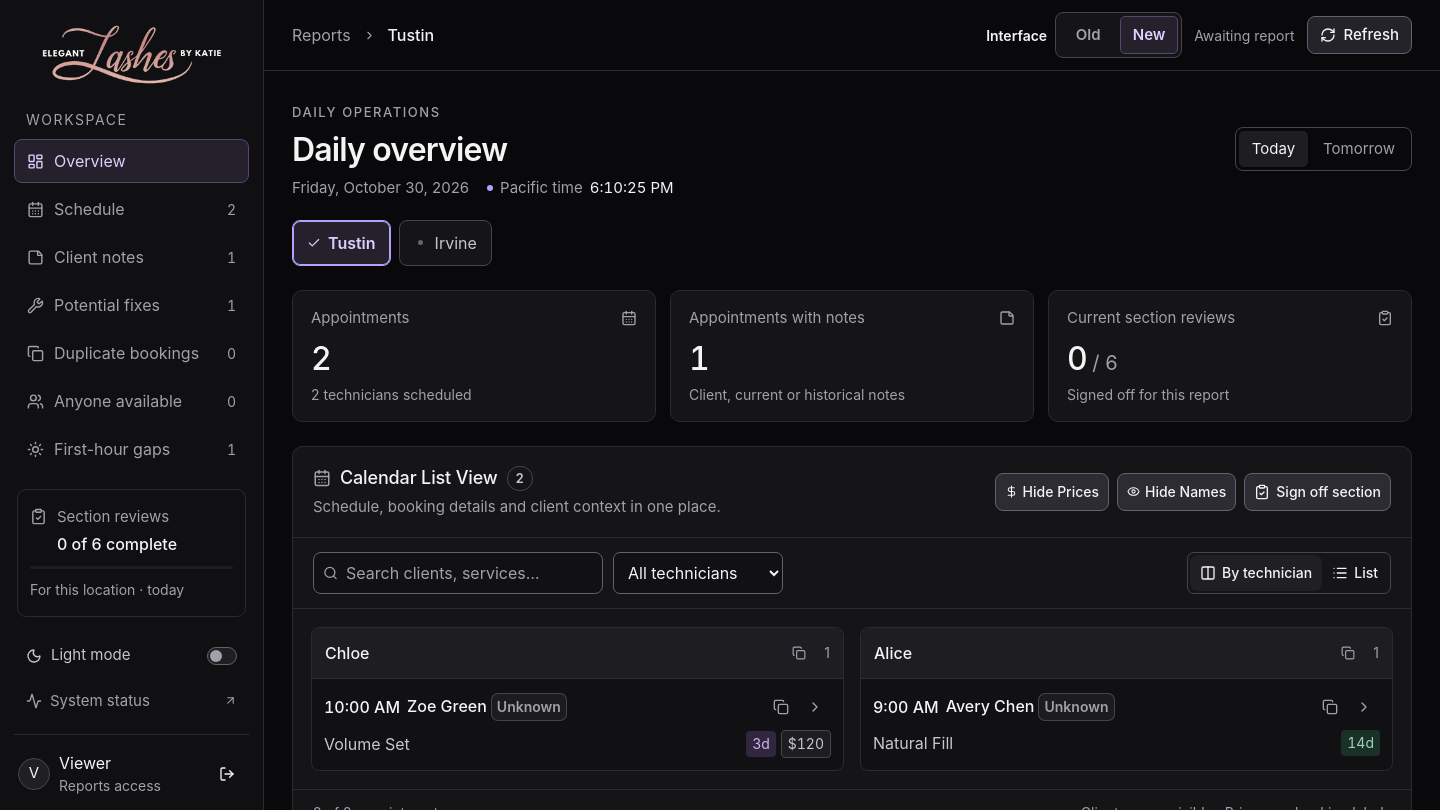
Test: keeps current notes and focus behavior in old details, with history only in New
This screenshot has width=1440, height=810.
Expected: the button with aria-label "Sign off Calendar List View" is shown, [1244,473,1391,511]
Click the button with aria-label "Old interface" at {"x": 1088, "y": 35}, box [1059,16,1117,54]
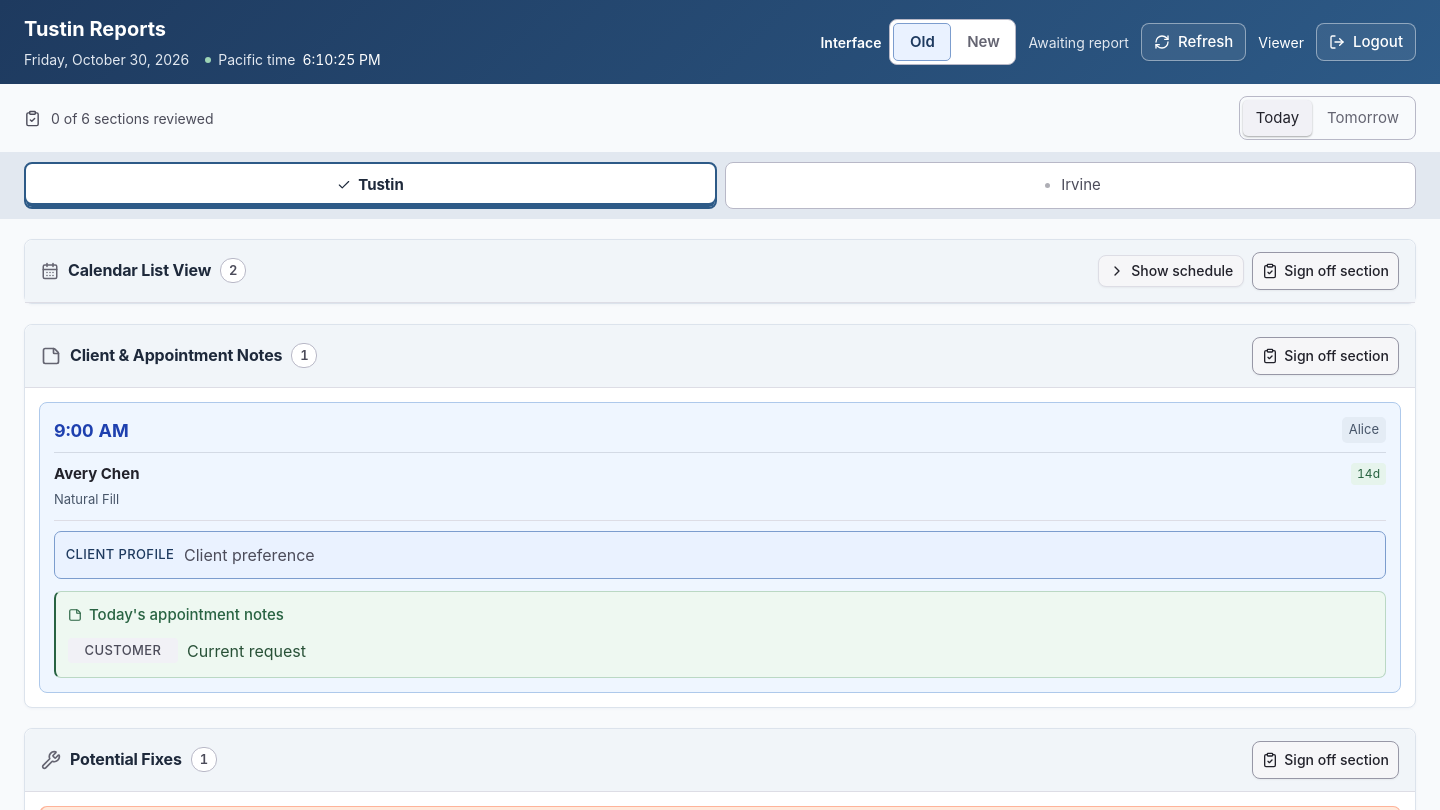
Click the button "Show schedule" at {"x": 1171, "y": 270}, box [1098,254,1244,286]
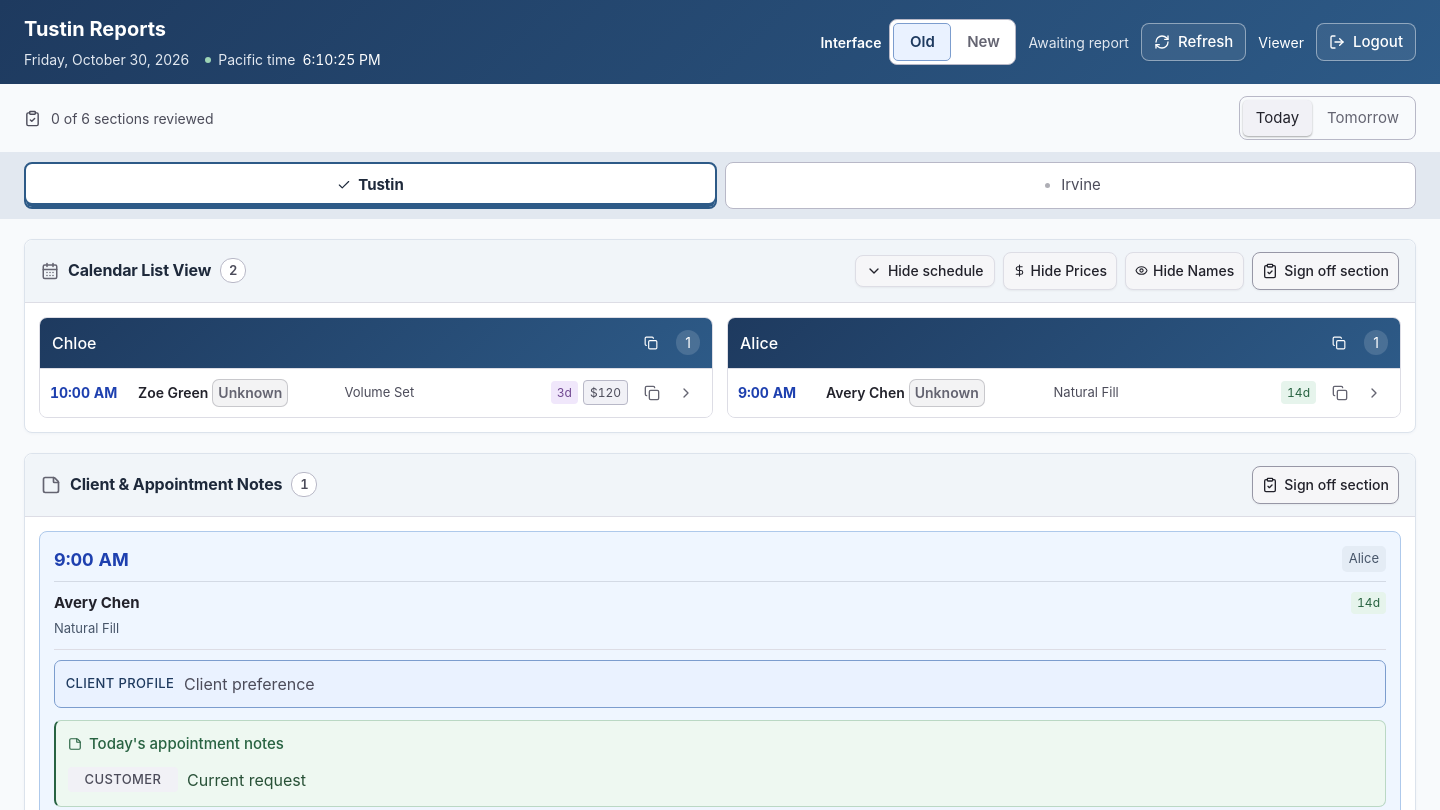
Click the button named "View 9:00 AM appointment details" at {"x": 1374, "y": 392}, box [1358,376,1390,408]
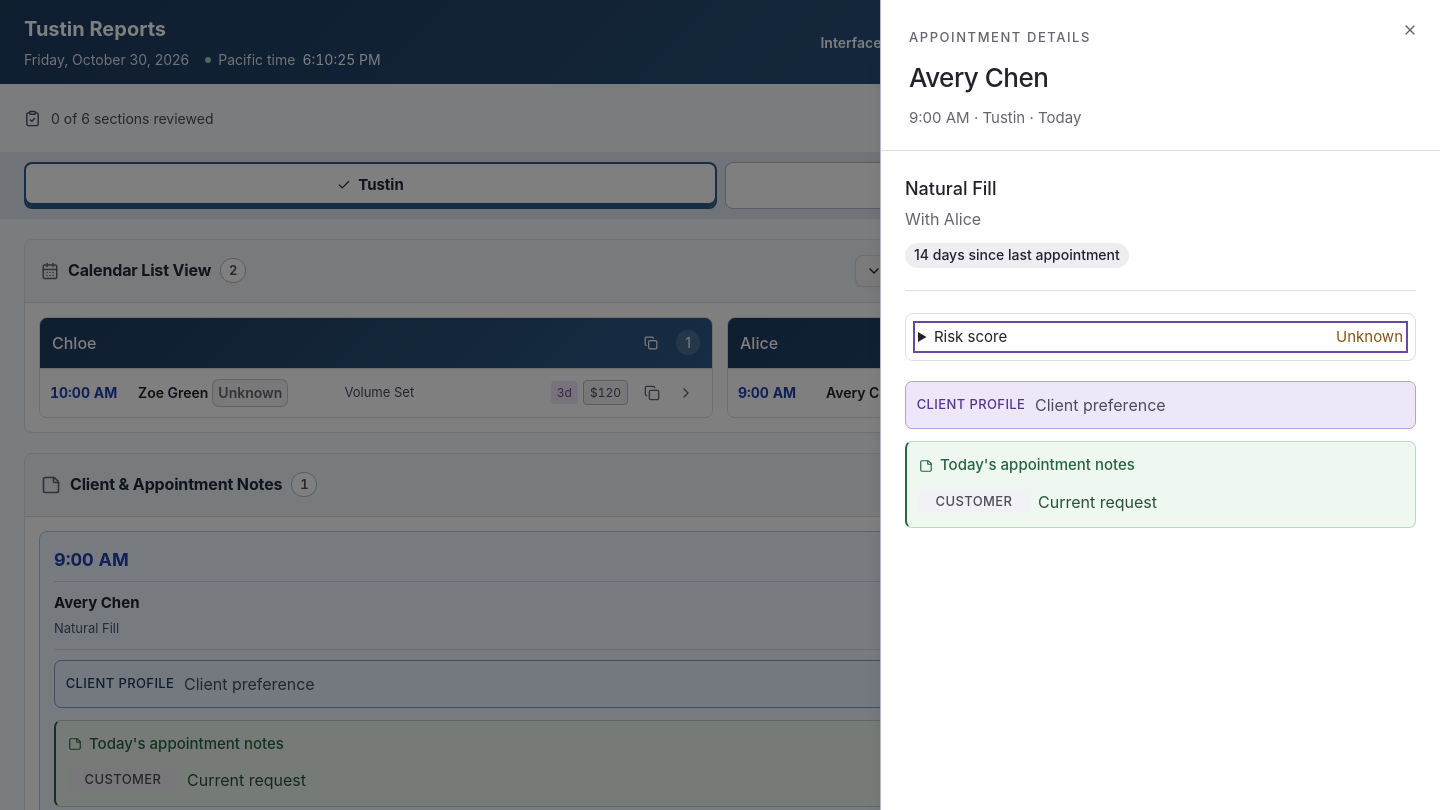
Now the text "Current request" is shown, box [1038,492,1157,512]
Now the text "Client preference" is shown, box [1035,395,1166,415]
Press Escape in the dialog "Avery Chen", box [880,0,1439,809]
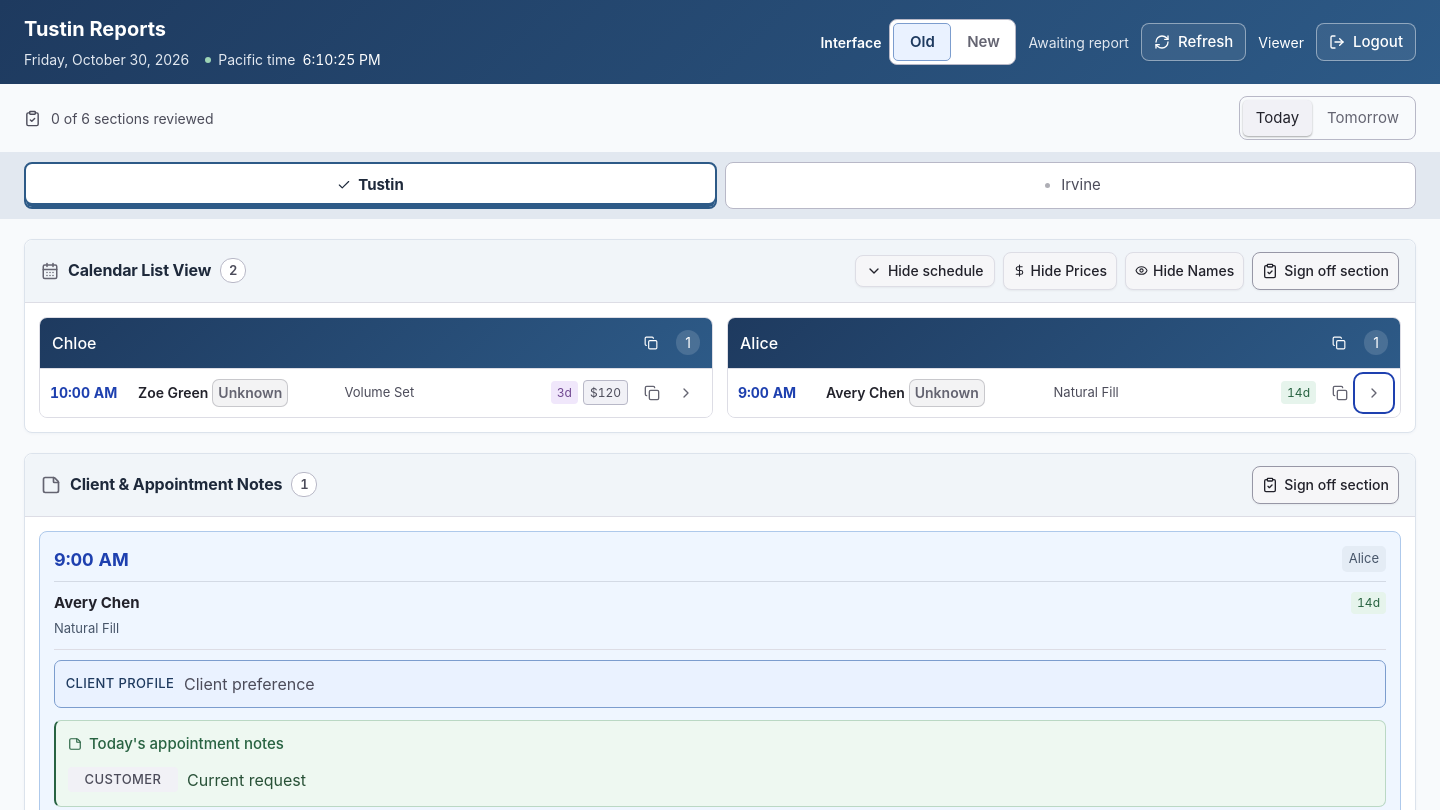
Now the dialog is gone
